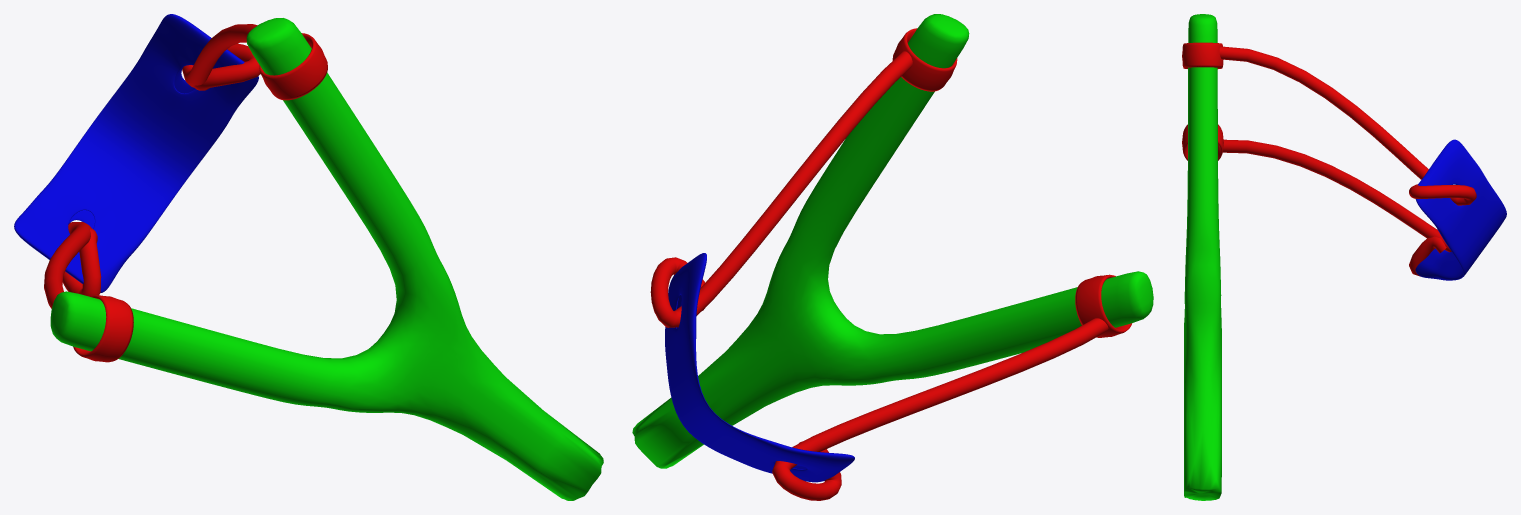
File: Fionda_HP.fbx
The picture shows the model from 3 angles, left to right: view 1: azimuth 30°, elevation 25°; view 2: azimuth 150°, elevation 25°; view 3: azimuth 270°, elevation 25°; orthographic projection. The views are drawn at different scales.
Visible parts, largest first — view 1: Fionda; view 2: Fionda; view 3: Fionda.
Part boxes in pixels (x1=…): Fionda: x1=14, y1=14, x2=603, y2=500; Fionda: x1=632, y1=14, x2=1153, y2=500; Fionda: x1=1182, y1=14, x2=1506, y2=500.
Bounding box in the file's own units: 24.7 × 23.67 × 18.02.
